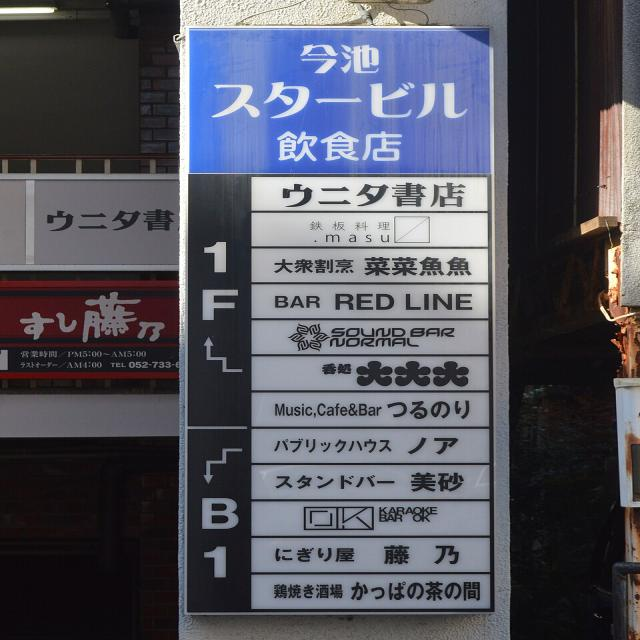building: (203, 38, 478, 125)
facility: (265, 578, 484, 604), (278, 181, 472, 210), (270, 253, 478, 279), (268, 541, 463, 568), (267, 396, 475, 421), (272, 470, 471, 496), (316, 358, 474, 388), (270, 289, 473, 312), (270, 434, 461, 458), (328, 324, 456, 347), (301, 216, 392, 246), (376, 504, 446, 524)
floor: (193, 492, 245, 584), (194, 235, 244, 325)
